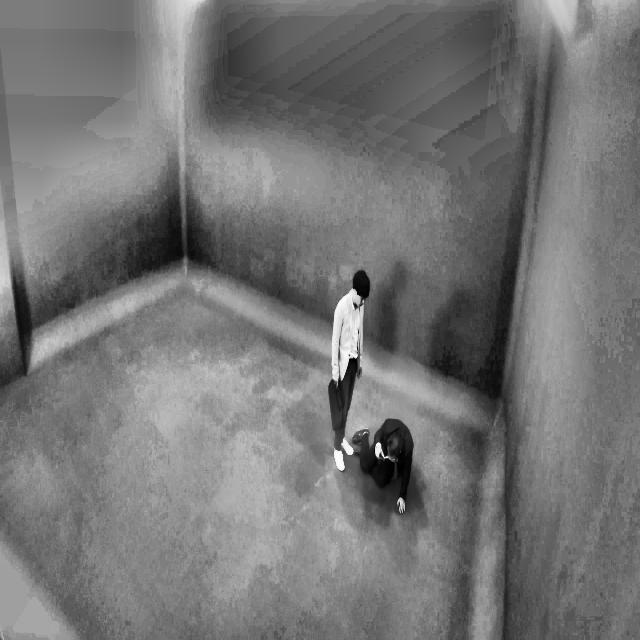assult: (312, 256, 436, 515), (352, 409, 417, 516)
